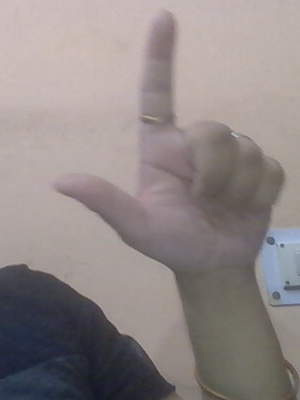L: (45, 7, 273, 252)
